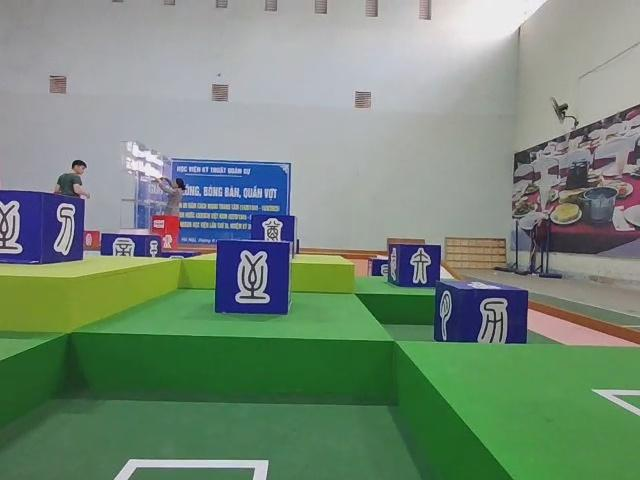R2 Fake Blue: (0, 190, 83, 266), (434, 280, 531, 345), (213, 239, 291, 316), (388, 244, 442, 289), (101, 235, 162, 260), (250, 213, 295, 244)
